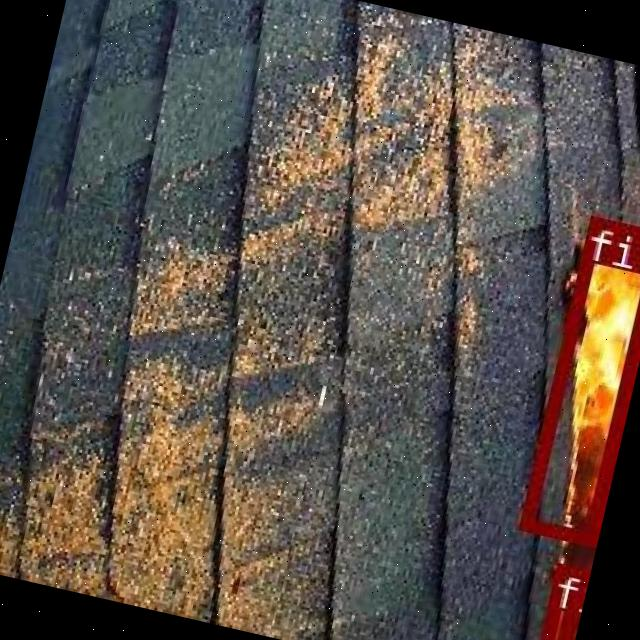fire: (516, 214, 640, 540), (531, 562, 584, 640)
